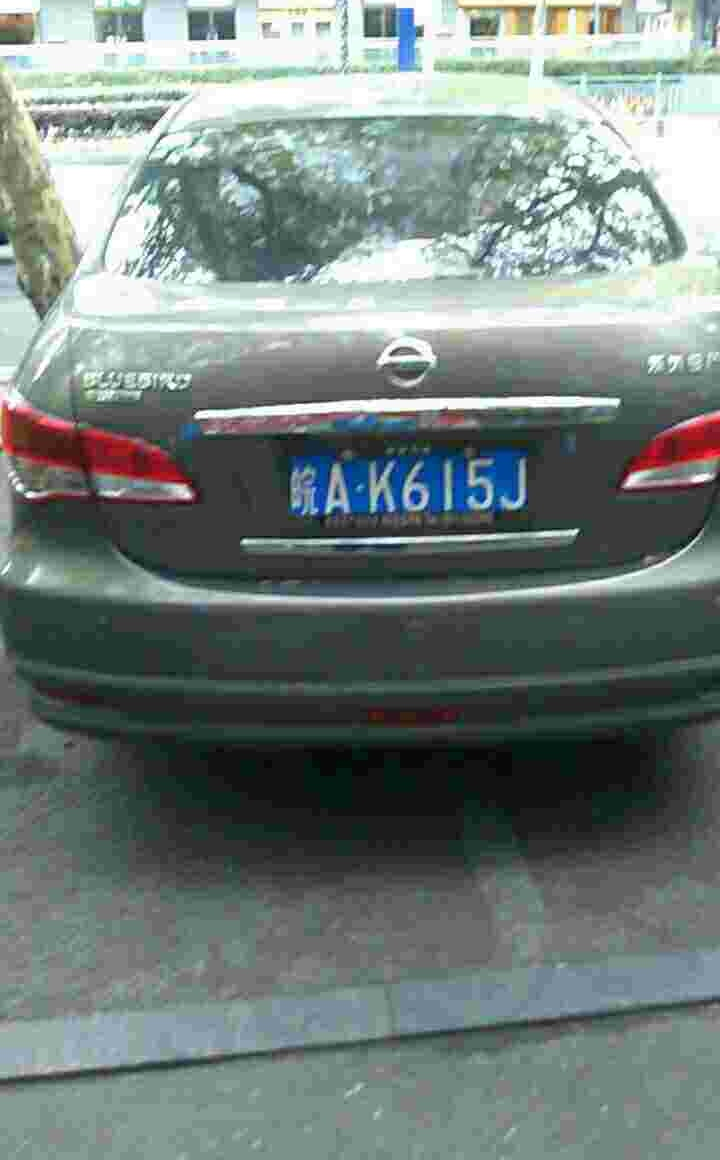license_plate: (287, 441, 534, 522)
